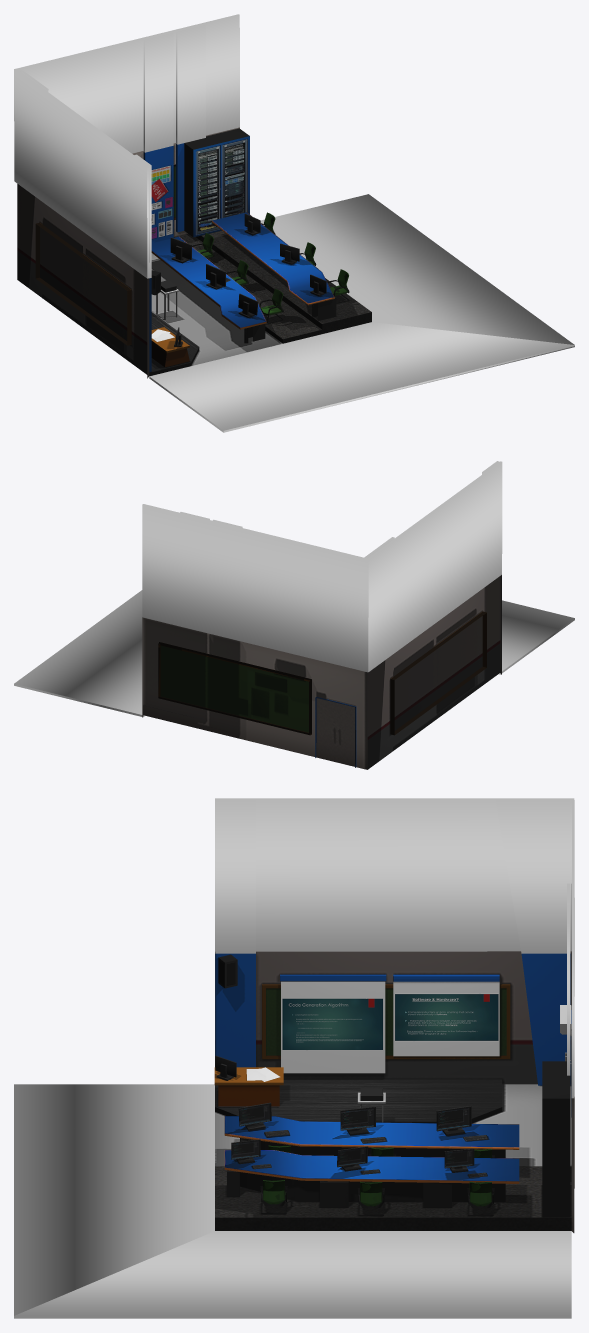
The model's file is Tx_Interior_Education_Computing_20170727.fbx.
The picture shows the model from 3 angles, top to bottom: view 1: azimuth 30°, elevation 25°; view 2: azimuth 150°, elevation 25°; view 3: azimuth 270°, elevation 25°; orthographic projection. The views are drawn at different scales.
Parts seen in each view (by area): view 1: Tx_Interior_Education_Computing_20170703:polySurface12, Tx_Interior_Education_Computing_20170703:polySurface11, Tx_Interior_Education_Computing_20170703:bake_2; view 2: Tx_Interior_Education_Computing_20170703:polySurface12, Tx_Interior_Education_Computing_20170703:polySurface11; view 3: Tx_Interior_Education_Computing_20170703:polySurface12, Tx_Interior_Education_Computing_20170703:polySurface11, Tx_Interior_Education_Computing_20170703:bake_2.
Part boxes in pixels (box(x1,y1,x2,y2)): Tx_Interior_Education_Computing_20170703:polySurface12: box(14, 14, 574, 432); Tx_Interior_Education_Computing_20170703:polySurface11: box(17, 127, 371, 378); Tx_Interior_Education_Computing_20170703:bake_2: box(151, 165, 349, 367); Tx_Interior_Education_Computing_20170703:polySurface12: box(14, 461, 574, 717); Tx_Interior_Education_Computing_20170703:polySurface11: box(142, 575, 501, 769); Tx_Interior_Education_Computing_20170703:polySurface12: box(14, 798, 574, 1318); Tx_Interior_Education_Computing_20170703:polySurface11: box(215, 951, 574, 1232); Tx_Interior_Education_Computing_20170703:bake_2: box(214, 1005, 571, 1216).
Bounding box in the file's own units: 82.91 × 47.32 × 83.76.
